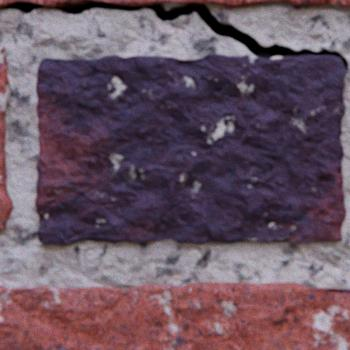brick: (36, 54, 345, 243), (0, 280, 349, 349), (0, 46, 14, 229), (98, 0, 349, 8), (0, 0, 78, 7)
crack: (0, 0, 348, 71)
